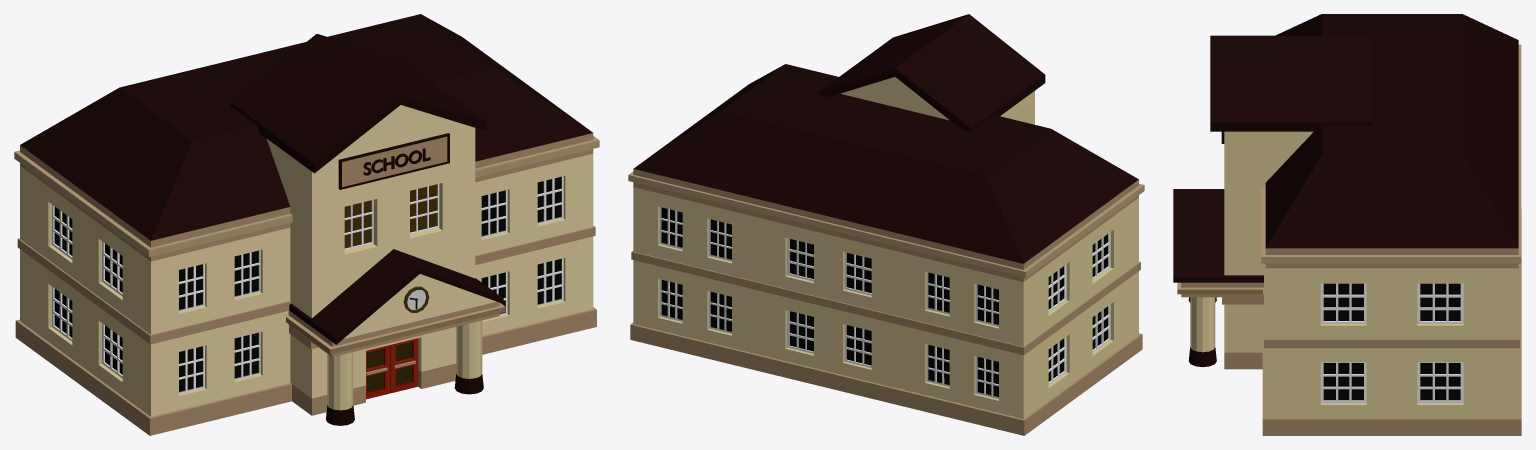
Rendered from School-2.fbx.
3 views of the same model, side by side, from view 1: azimuth 30°, elevation 25°; view 2: azimuth 150°, elevation 25°; view 3: azimuth 270°, elevation 25° (orthographic). The views are drawn at different scales.
Parts seen in each view (by area): view 1: Cube; view 2: Cube; view 3: Cube.
Part boxes in pixels (x1,y1,x2,y2): Cube: [14, 14, 599, 435]; Cube: [628, 14, 1144, 435]; Cube: [1173, 14, 1521, 435].
Size of what is drawn, in the model's own units: 27.32 by 17.73 by 18.94.
